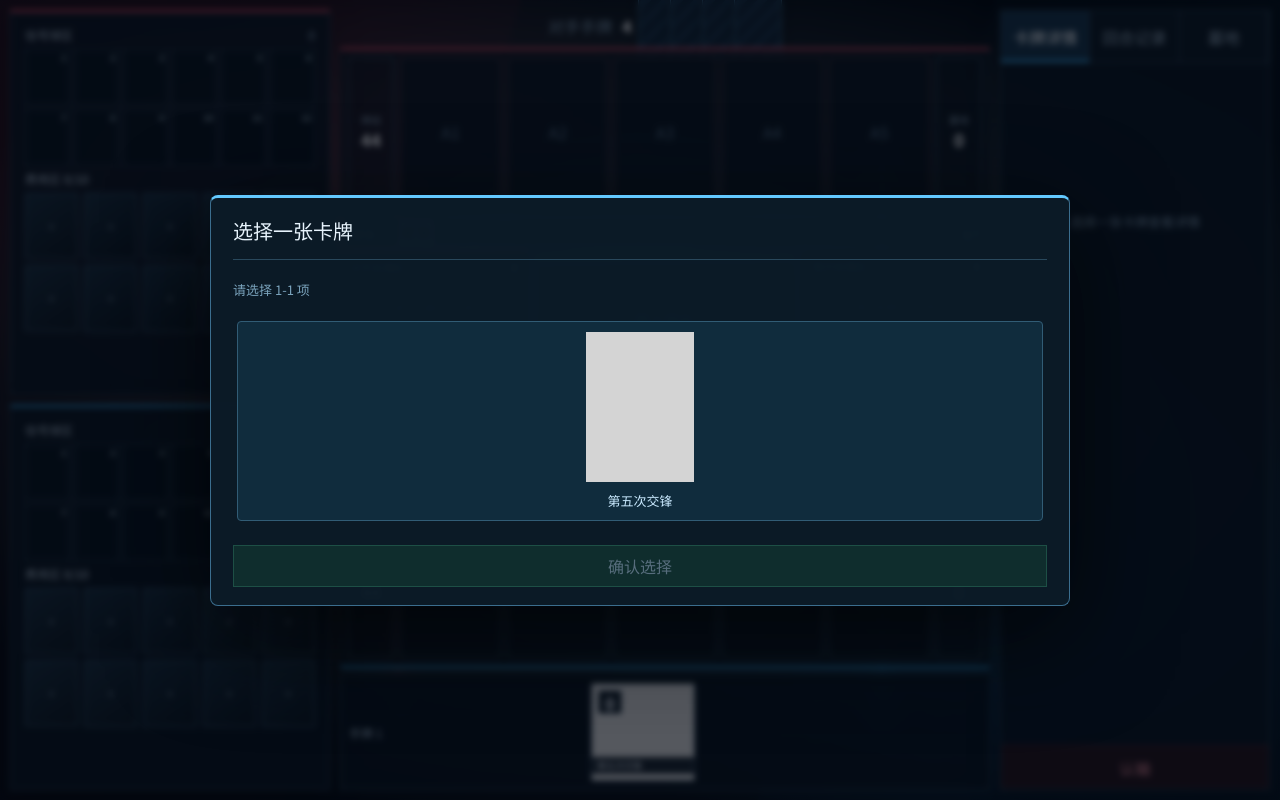
Test: Battlefield interaction state › lets the player inspect a single effect target before confirming it
Later steps or results of the test are not shown.
Click the button "第五次交锋": (640, 420) [237,320,1043,520]
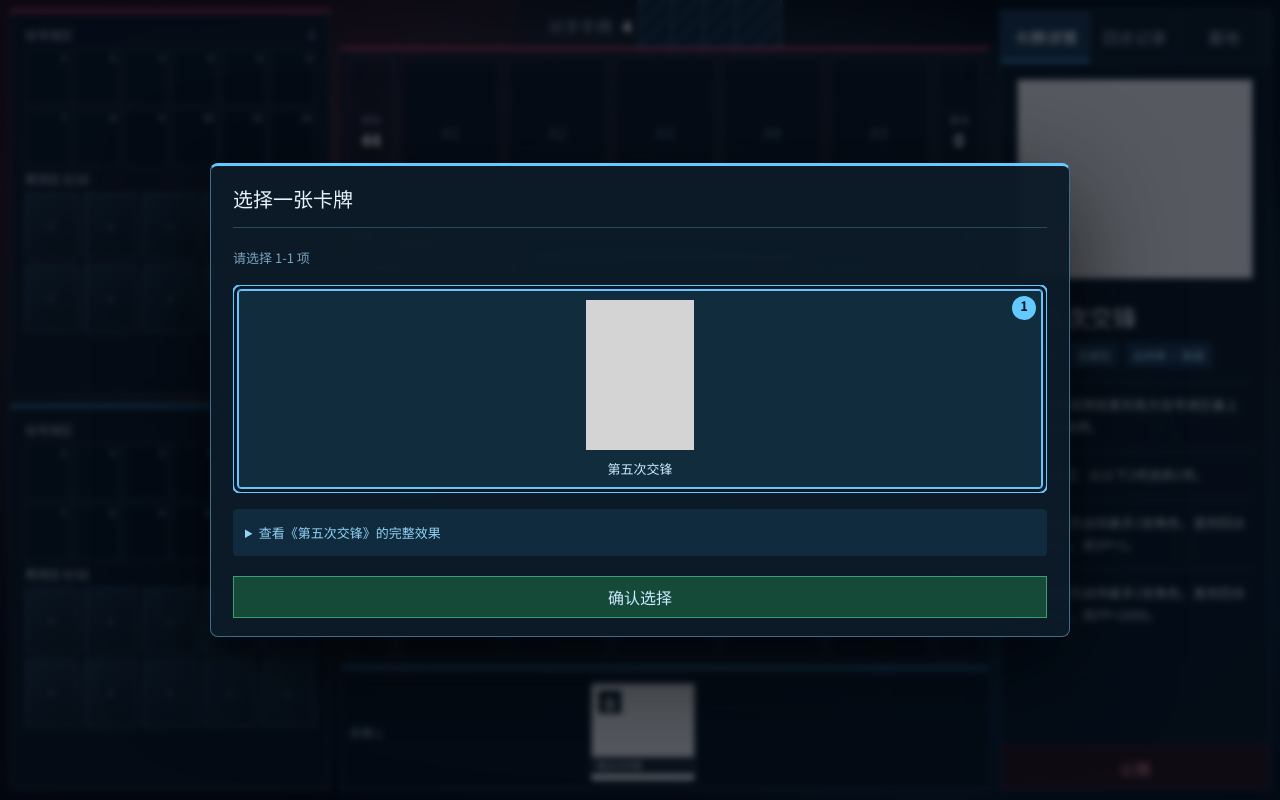
Now the heading "查看《第五次交锋》的完整效果" is shown, box [259,523,441,542]
